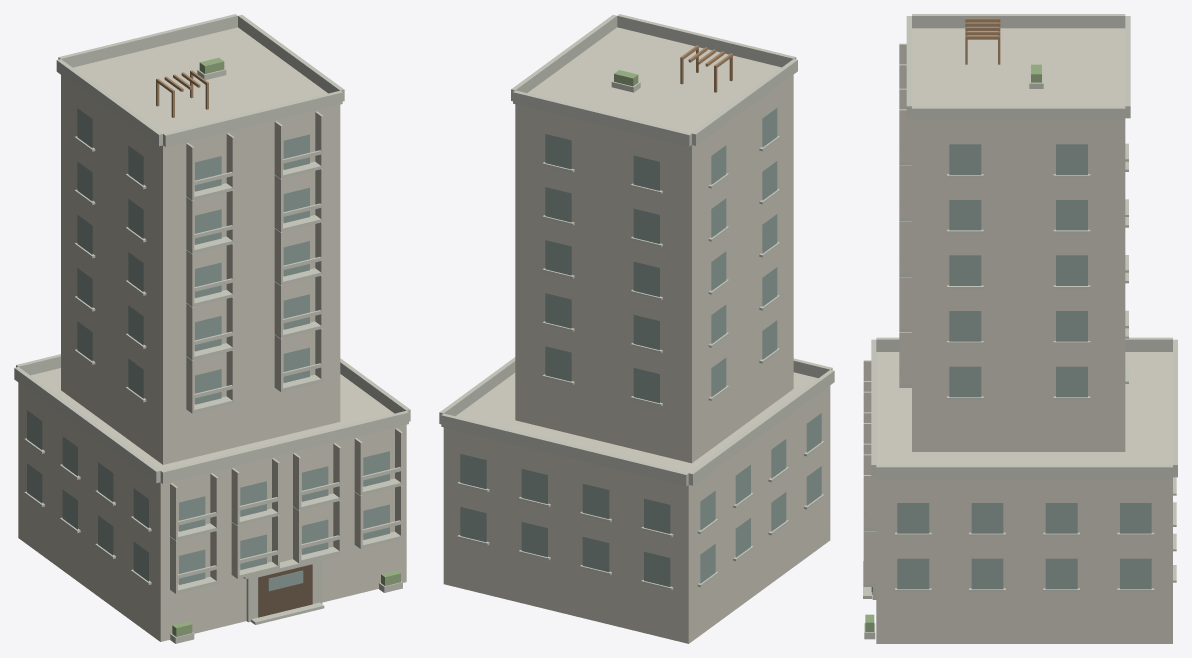
The model's file is residential_2x2_b.glb.
3 views of the same model, side by side, from view 1: azimuth 30°, elevation 25°; view 2: azimuth 150°, elevation 25°; view 3: azimuth 270°, elevation 25° (orthographic). The views are drawn at different scales.
Visible parts, largest first — view 1: residential_2x2_b_0; view 2: residential_2x2_b_0; view 3: residential_2x2_b_0.
Boxes of the visible parts, bbox=[...] form: residential_2x2_b_0: bbox=[14, 14, 410, 643]; residential_2x2_b_0: bbox=[439, 14, 834, 643]; residential_2x2_b_0: bbox=[863, 14, 1177, 643].
Size of the model in its own units: 15 by 28.5 by 15.4.
